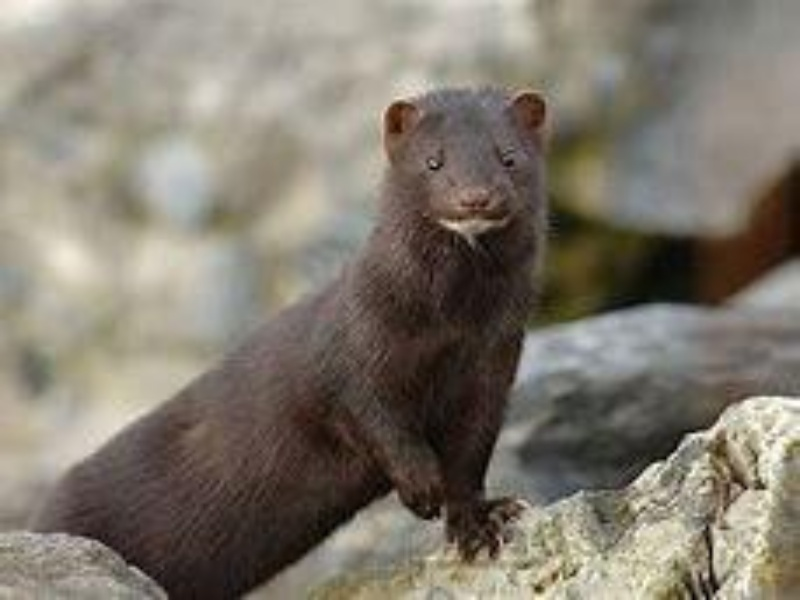minkish: (34, 78, 556, 600)
